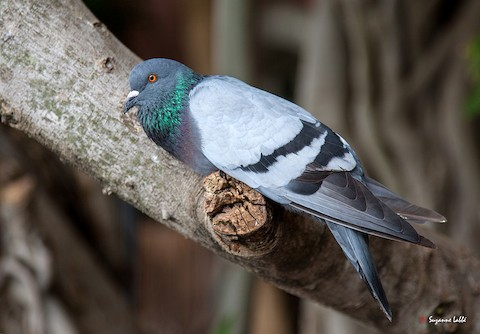pigeon: (123, 51, 450, 324)
